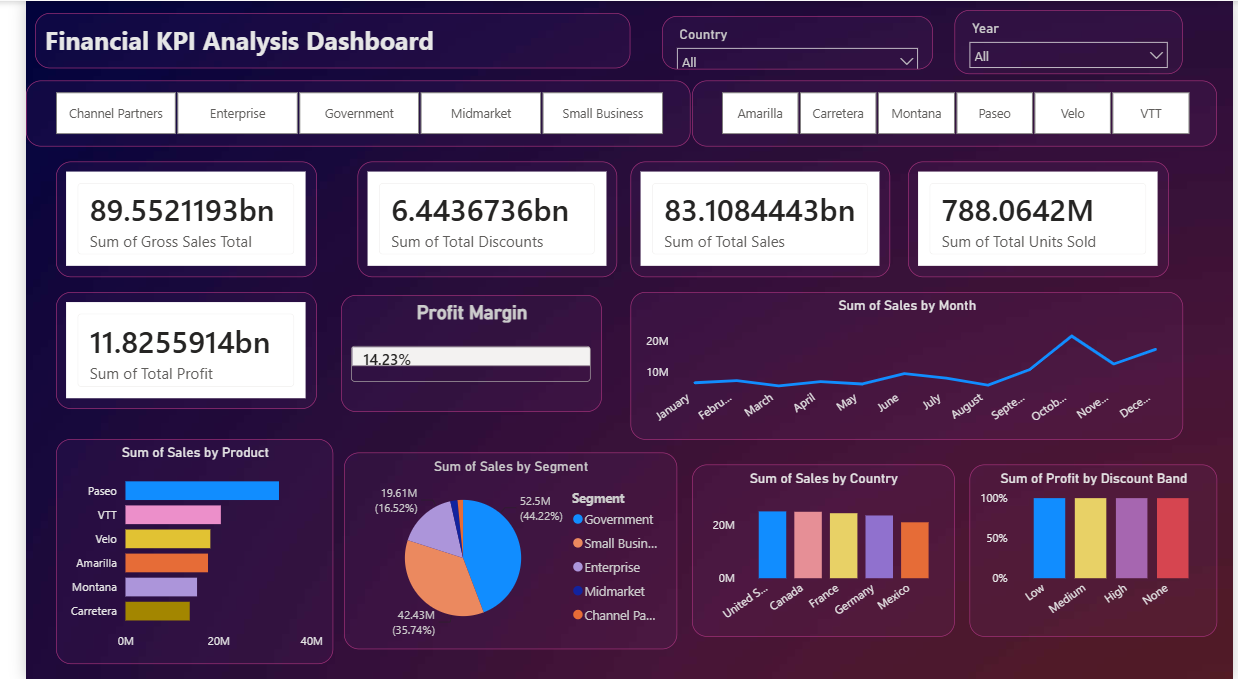

The dashboard page shown, as its layout file describes it:
{"tool":"powerbi","page":{"name":"Page 1","canvas":[1280,720],"ordinal":0},"visuals":[{"type":"textbox","box":[9.5,12.7,631.5,58.9],"z":0},{"type":"lineChart","fields":{"Category":["financials.Date.Variation.Date Hierarchy.Month"],"Y":["Sum(financials. Sales)"]},"box":[640.6,308,585.8,156.9],"z":1000},{"type":"cardVisual","fields":{"Data":["Sum(financials.Total Sales)"]},"box":[641,170.2,275.2,122.5],"z":2000},{"type":"slicer","fields":{"Values":["financials.Country"]},"box":[674.7,15.1,287.2,56.7],"z":3000},{"type":"slicer","fields":{"Values":["financials.Segment"]},"box":[0,85,704.9,69.9],"z":4000},{"type":"slicer","fields":{"Values":["financials.Date.Variation.Date Hierarchy.Year"]},"box":[984.6,9.4,241.9,68],"z":5000},{"type":"cardVisual","fields":{"Data":["Sum(financials.Total Profit)"]},"box":[31.8,308.6,276.8,124.1],"z":6000},{"type":"cardVisual","fields":{"Data":["Sum(financials.Total Units Sold)"]},"box":[935.3,170.2,276.8,122.5],"z":7000},{"type":"cardVisual","fields":{"Data":["Sum(financials.Gross Sales Total)"]},"box":[31.8,170.2,276.8,122.5],"z":8000},{"type":"cardVisual","fields":{"Data":["Sum(financials.Total Discounts)"]},"box":[351.5,170.2,275.2,122.5],"z":9000},{"type":"lineClusteredColumnComboChart","fields":{"Category":["financials.Country"],"Y":["Sum(financials. Sales)"]},"box":[706.2,491.5,278.4,182.9],"z":10000},{"type":"pieChart","fields":{"Y":["Sum(financials. Sales)"],"Category":["financials.Segment"]},"box":[337.2,478.8,353.1,208.4],"z":11000},{"type":"barChart","fields":{"Y":["Sum(financials. Sales)"],"Category":["financials.Product"]},"box":[31.8,464.5,294.3,238.6],"z":12000},{"type":"slicer","fields":{"Values":["financials.Product"]},"box":[706.2,84.3,556.7,70],"z":13000},{"type":"hundredPercentStackedColumnChart","fields":{"Category":["financials.Discount Band"],"Y":["Sum(financials.Profit)"]},"box":[1000.5,491.5,262.5,182.9],"z":14000},{"type":"cardVisual","title":"Profit Margin","fields":{"Rows":["financials.Profit Margin %"]},"box":[334,312,276.8,124.1],"z":15000}]}

Visuals, with their boxes in screenshot pixels (x1, y1, x2, y2), scaled from the page's 1280x720 canvas onto the 1238x679 screenshot:
textbox: bbox(9, 12, 620, 68)
lineChart - financials.Date.Variation.Date Hierarchy.Month x Sum(financials. Sales): bbox(620, 290, 1186, 438)
cardVisual - Sum(financials.Total Sales): bbox(620, 161, 886, 276)
slicer - financials.Country: bbox(653, 14, 930, 68)
slicer - financials.Segment: bbox(0, 80, 682, 146)
slicer - financials.Date.Variation.Date Hierarchy.Year: bbox(952, 9, 1186, 73)
cardVisual - Sum(financials.Total Profit): bbox(31, 291, 298, 408)
cardVisual - Sum(financials.Total Units Sold): bbox(905, 161, 1172, 276)
cardVisual - Sum(financials.Gross Sales Total): bbox(31, 161, 298, 276)
cardVisual - Sum(financials.Total Discounts): bbox(340, 161, 606, 276)
lineClusteredColumnComboChart - financials.Country x Sum(financials. Sales): bbox(683, 464, 952, 636)
pieChart - Sum(financials. Sales) x financials.Segment: bbox(326, 452, 668, 648)
barChart - Sum(financials. Sales) x financials.Product: bbox(31, 438, 315, 663)
slicer - financials.Product: bbox(683, 79, 1221, 146)
hundredPercentStackedColumnChart - financials.Discount Band x Sum(financials.Profit): bbox(968, 464, 1222, 636)
"Profit Margin" cardVisual: bbox(323, 294, 591, 411)
